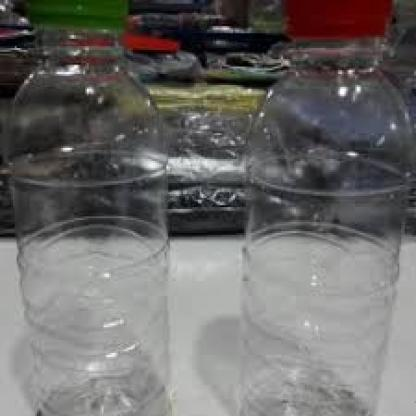Glass Bottle: (239, 0, 414, 416), (4, 0, 176, 416)
